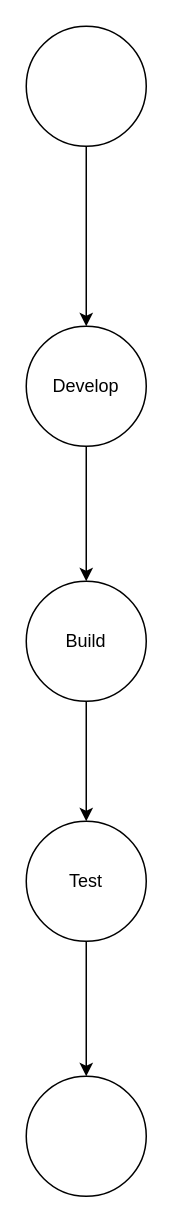
Image size: 173x1223. Some labels were removed from this diagram. Each missing label, with the centre of its shape:
Plain: pixel 85 85
Release: pixel 85 1135
